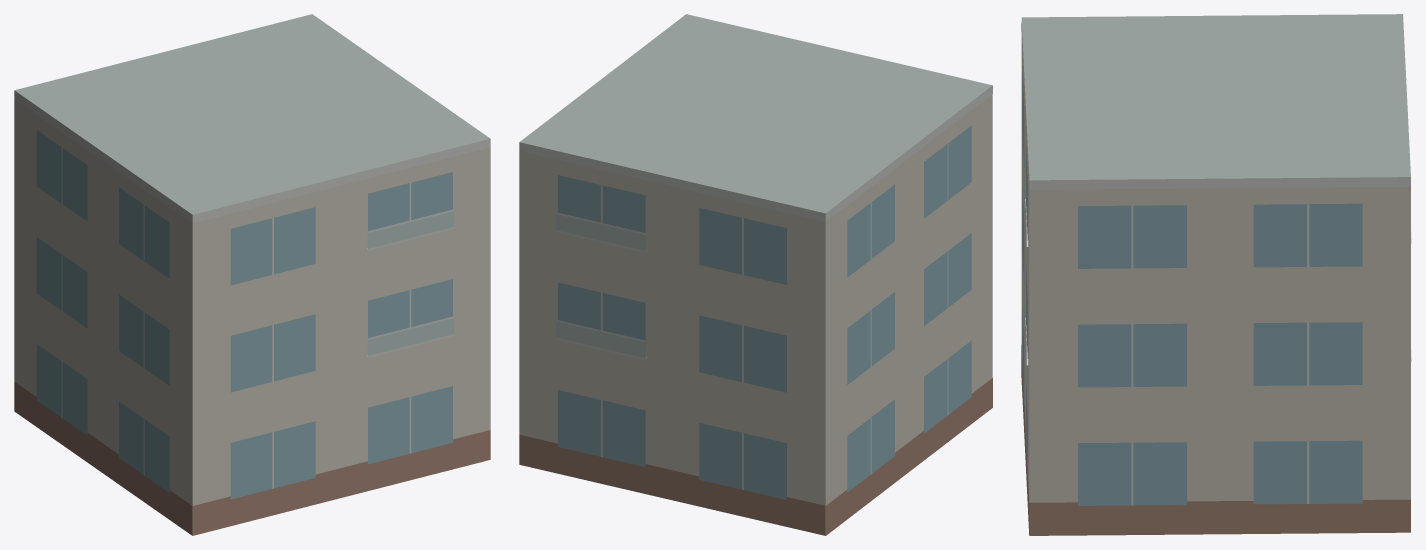
File: survey-upis-32717745.glb
The picture shows the model from 3 angles, left to right: view 1: azimuth 30°, elevation 25°; view 2: azimuth 150°, elevation 25°; view 3: azimuth 270°, elevation 25°; orthographic projection. The views are drawn at different scales.
Parts seen in each view (by area): view 1: survey-upis-32717745.tmp; view 2: survey-upis-32717745.tmp; view 3: survey-upis-32717745.tmp.
Boxes of the visible parts, left/top/right/bottom form: survey-upis-32717745.tmp: left=14, top=14, right=490, bottom=535; survey-upis-32717745.tmp: left=519, top=14, right=992, bottom=535; survey-upis-32717745.tmp: left=1021, top=14, right=1411, bottom=535.
Size of the model in its own units: 9.19 by 9.15 by 9.11.
